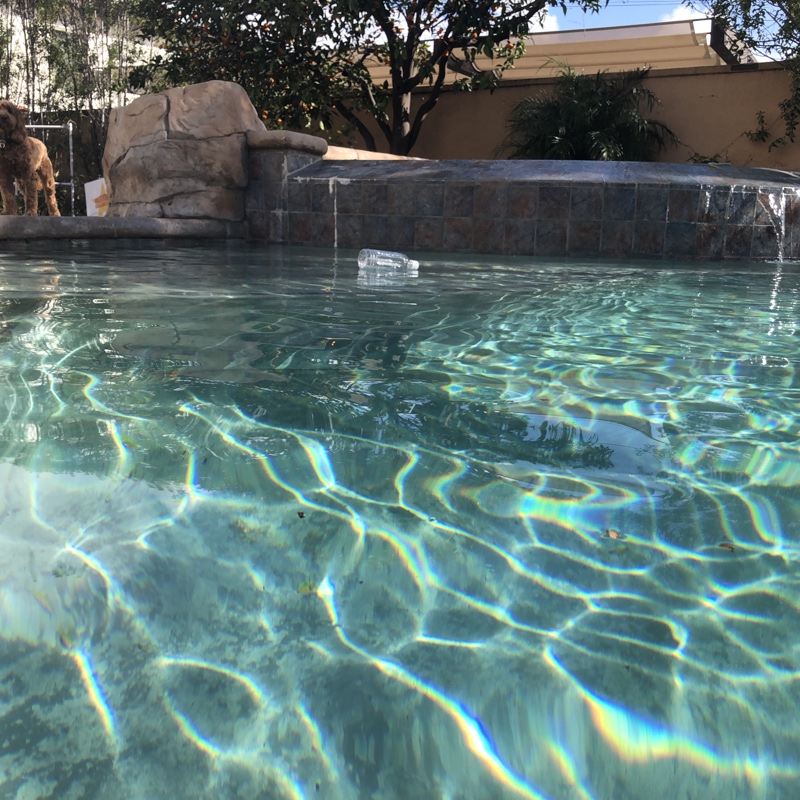Plastic Bottle: (355, 244, 422, 278)
